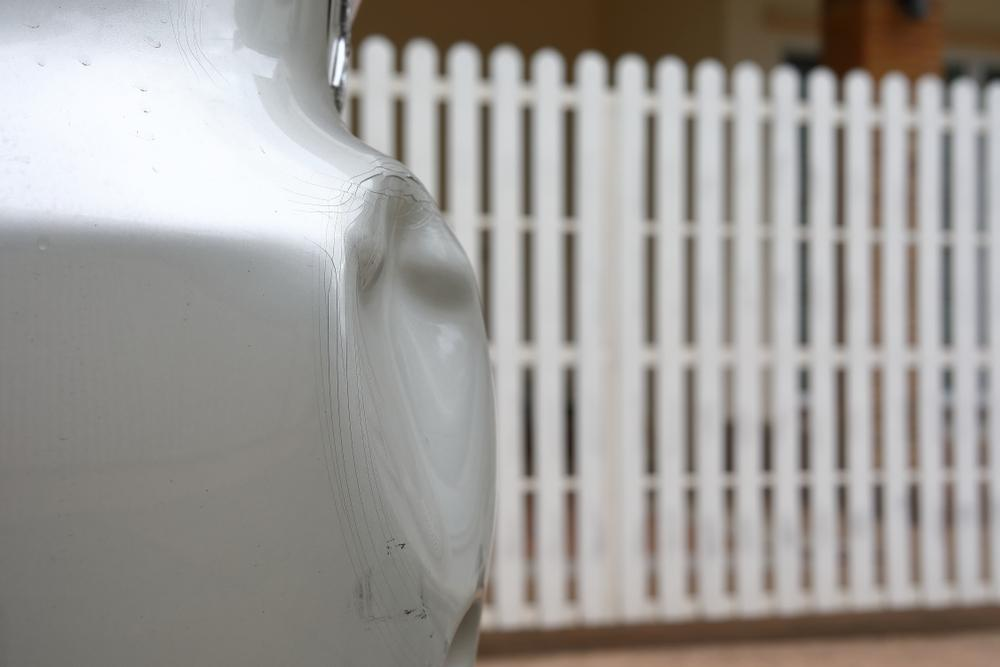dent: (342, 165, 493, 601)
